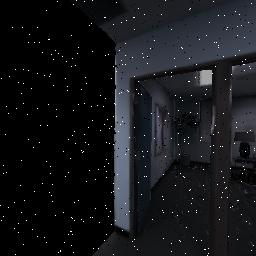door-frame: (118, 47, 256, 256)
